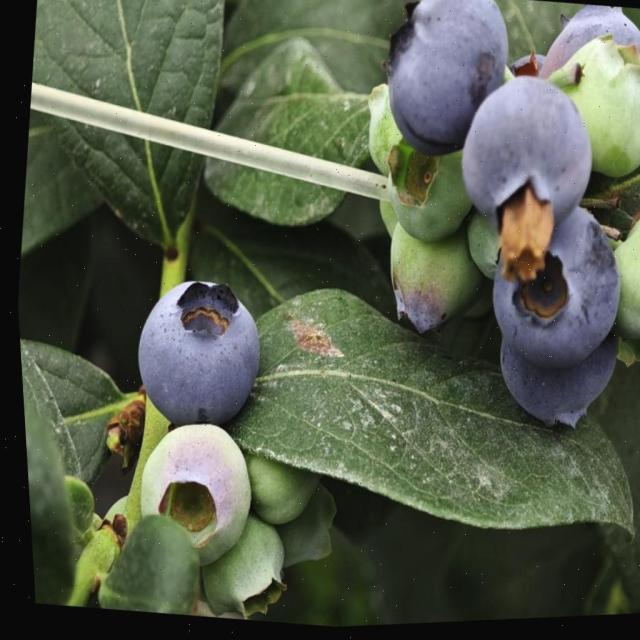RipeBlueBerry: (446, 72, 606, 256), (472, 204, 632, 388), (118, 271, 270, 436), (372, 0, 520, 168)
Semi-RipeBlueBerry: (372, 131, 478, 250)
UnripeBlueBerry: (116, 416, 258, 574), (544, 35, 640, 195), (373, 217, 488, 339), (597, 211, 640, 354)
